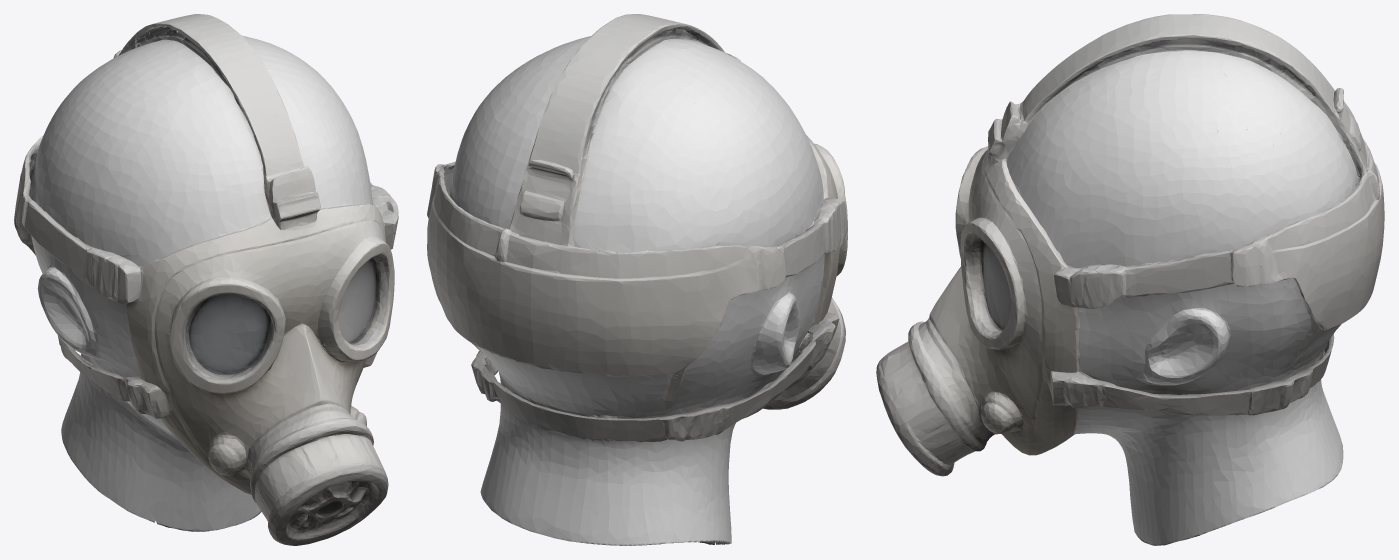
Rendered from Gas_Mask1.glb.
3 views of the same model, side by side, from view 1: azimuth 30°, elevation 25°; view 2: azimuth 150°, elevation 25°; view 3: azimuth 270°, elevation 25° (orthographic). The views are drawn at different scales.
Visible parts, largest first — view 1: world; view 2: world; view 3: world.
Part boxes in pixels (<box>): world: <box>14,14,398,545</box>; world: <box>427,14,847,545</box>; world: <box>876,14,1384,545</box>.
Size of the model in its own units: 0.7034 by 1 by 0.9129.
1 material, 1 textured.
